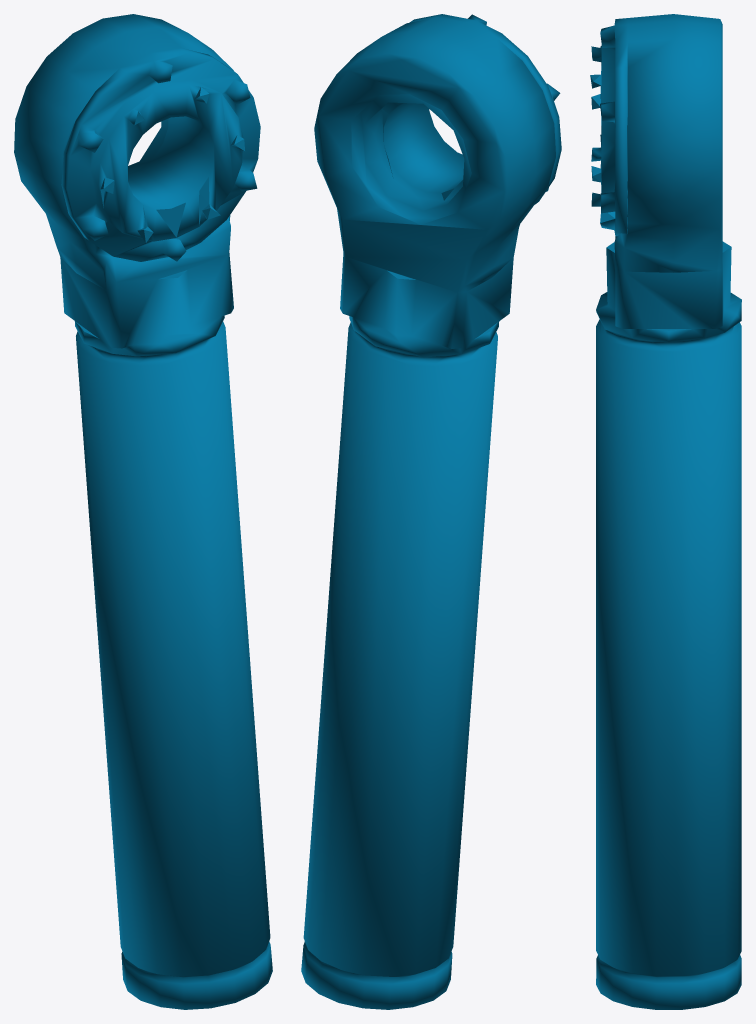
3 renders of one model, left to right at view 1: azimuth 30°, elevation 25°; view 2: azimuth 150°, elevation 25°; view 3: azimuth 270°, elevation 25°, orthographic. The views are drawn at different scales.
Parts seen in each view (by area): view 1: link_2_l_2; view 2: link_2_l_2; view 3: link_2_l_2.
Boxes of the visible parts, x1,y1,x2,y2 form: link_2_l_2: (14, 14, 272, 1009); link_2_l_2: (301, 14, 561, 1009); link_2_l_2: (590, 14, 741, 1009).
Bounding box in the file's own units: 0.1658 × 0.0991 × 0.6743.
